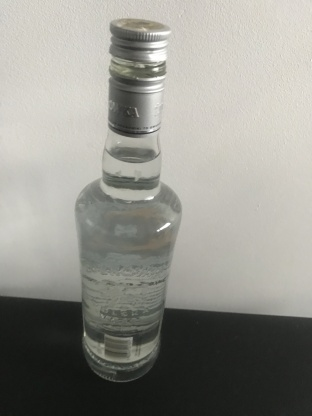nakretka: (106, 17, 172, 138)
